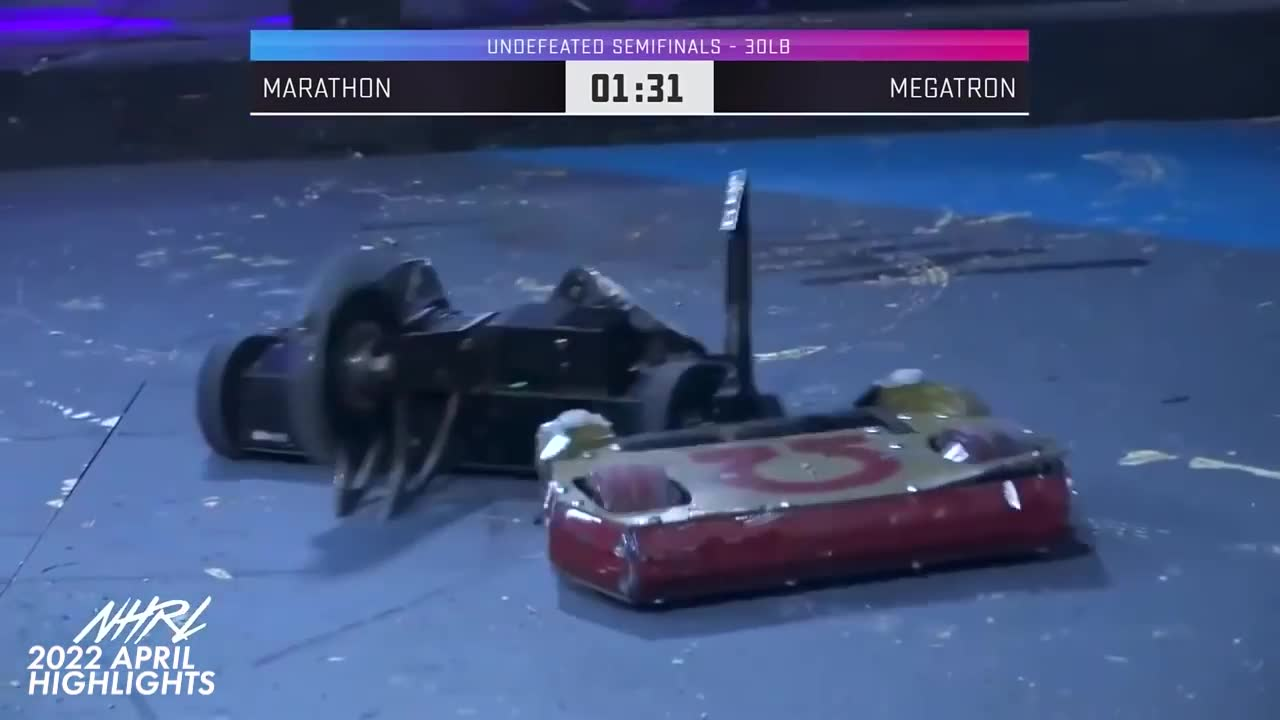combatbot: (199, 166, 749, 524), (542, 379, 1078, 614)
